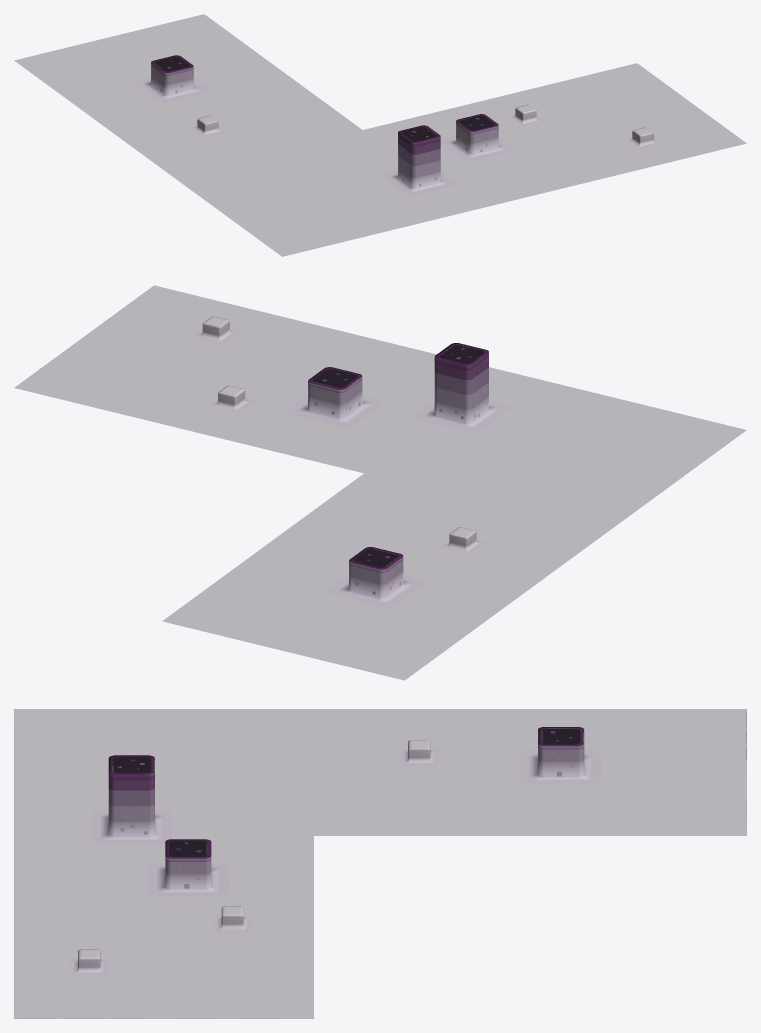
Rendered from C_special1_out_RU.fbx.
3 views of the same model, one above another, from view 1: azimuth 30°, elevation 25°; view 2: azimuth 150°, elevation 25°; view 3: azimuth 270°, elevation 25° (orthographic). The views are drawn at different scales.
Visible parts, largest first — view 1: C_special1_out_RU.001; view 2: C_special1_out_RU.001; view 3: C_special1_out_RU.001.
Boxes of the visible parts, <box> form: C_special1_out_RU.001: <box>14,14,746,256</box>; C_special1_out_RU.001: <box>14,285,746,680</box>; C_special1_out_RU.001: <box>14,709,746,1018</box>.
Size of the model in its own units: 127 by 12.29 by 127.
